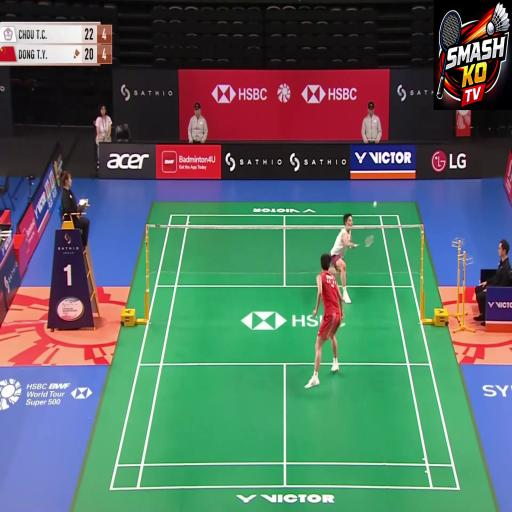player: (301, 262, 353, 387), (326, 187, 362, 292)
